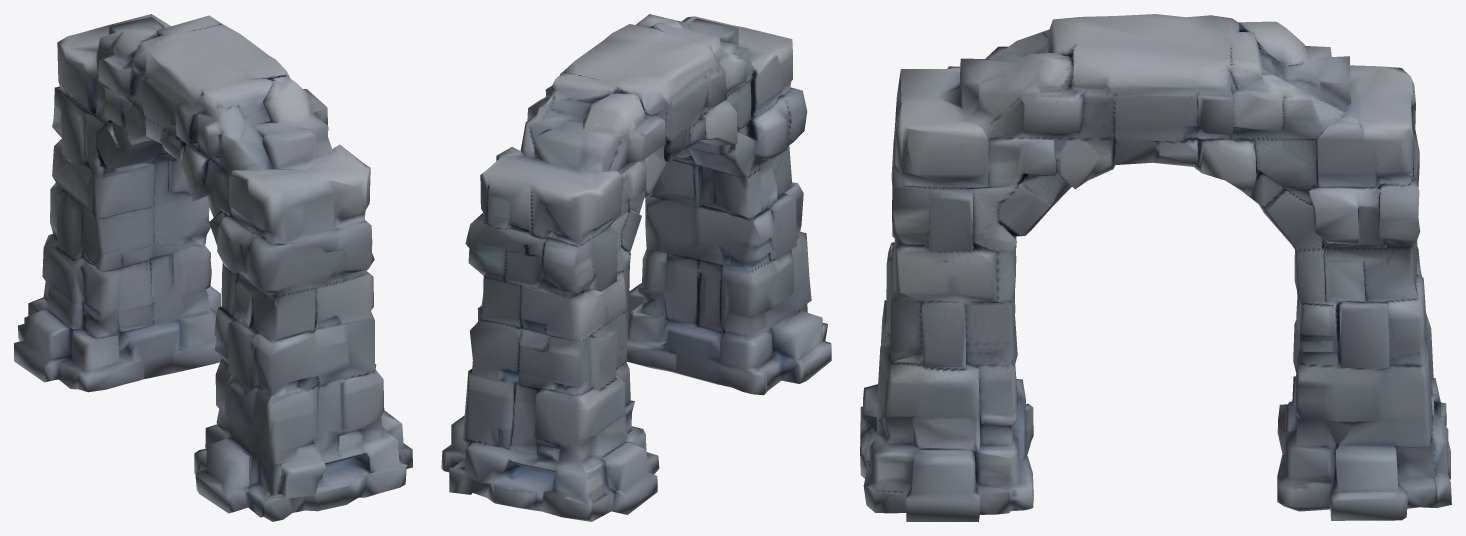
The model's file is bridge.glb.
The picture shows the model from 3 angles, left to right: view 1: azimuth 30°, elevation 25°; view 2: azimuth 150°, elevation 25°; view 3: azimuth 270°, elevation 25°; orthographic projection. The views are drawn at different scales.
Parts seen in each view (by area): view 1: tripo_node_ac5384b6-7cfc-4b10-a596-e218877beefc; view 2: tripo_node_ac5384b6-7cfc-4b10-a596-e218877beefc; view 3: tripo_node_ac5384b6-7cfc-4b10-a596-e218877beefc.
Part boxes in pixels (box(x1,y1,x2,y2)): tripo_node_ac5384b6-7cfc-4b10-a596-e218877beefc: box(14, 14, 412, 521); tripo_node_ac5384b6-7cfc-4b10-a596-e218877beefc: box(441, 14, 831, 521); tripo_node_ac5384b6-7cfc-4b10-a596-e218877beefc: box(860, 14, 1451, 521).
Size of the model in its own units: 0.4418 by 0.8048 by 1.
1 material, 1 textured.
